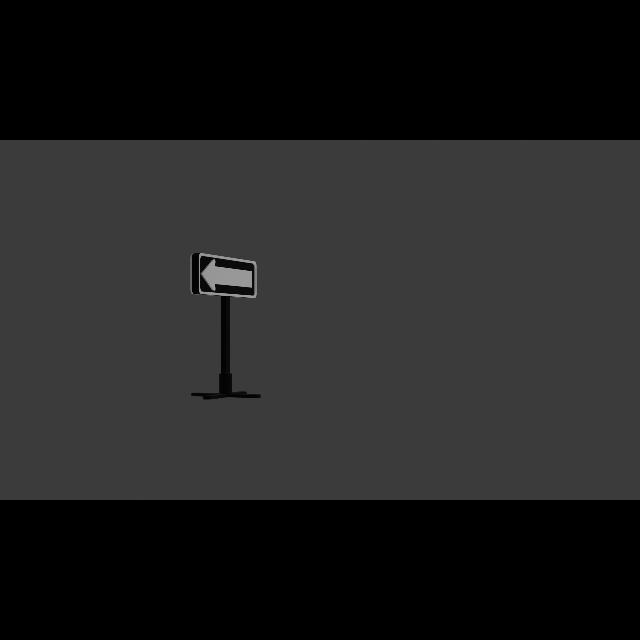sign_oneway_left: (191, 252, 260, 302)
